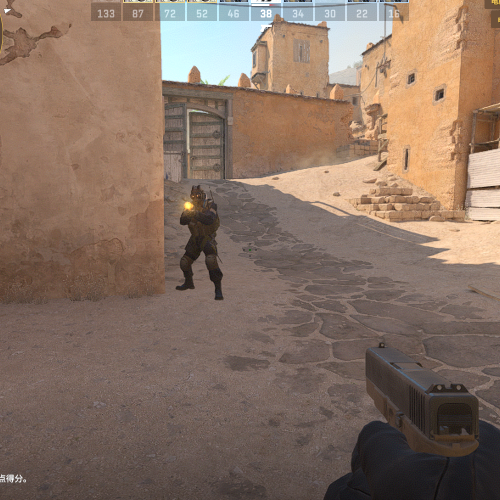ct_body: (177, 186, 224, 301)
ct_head: (188, 185, 206, 203)
